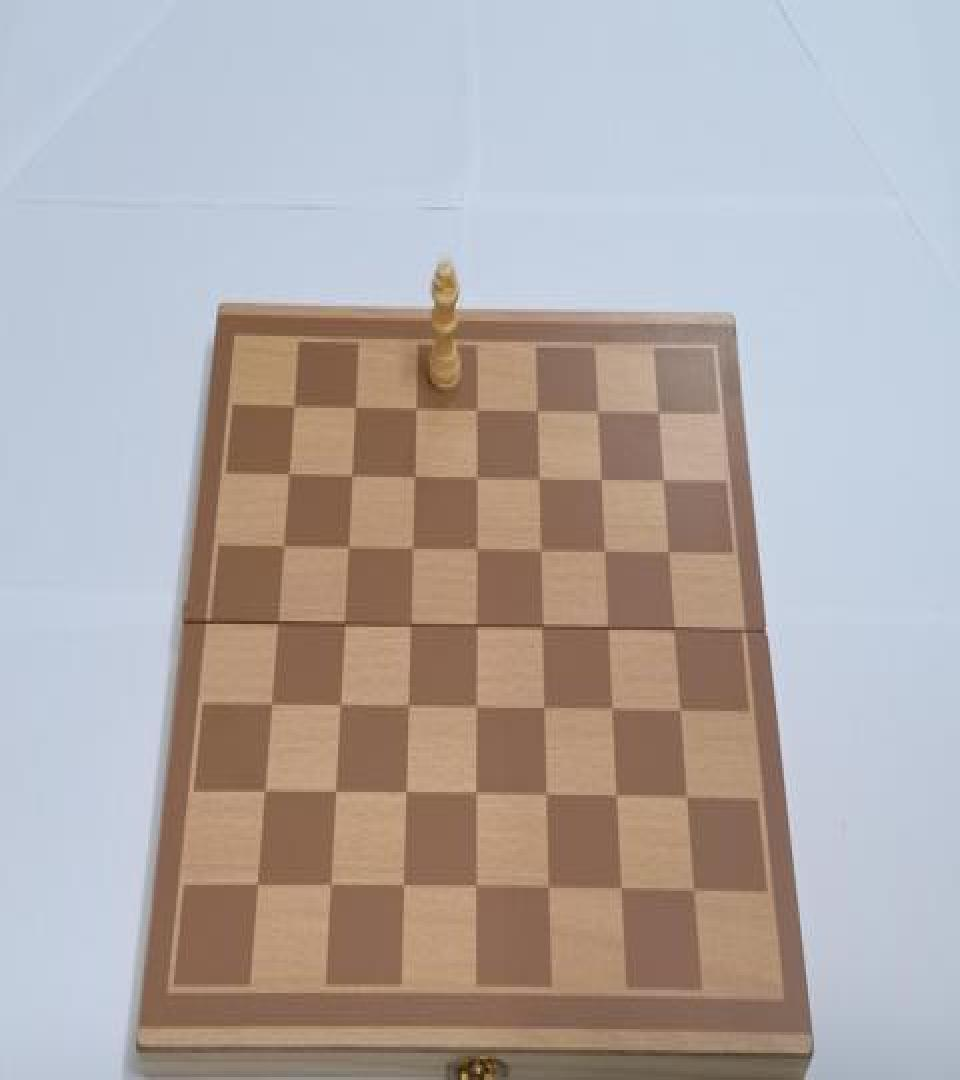xcorner: (280, 460, 298, 488), (406, 394, 424, 422), (467, 694, 485, 722), (590, 466, 608, 494), (285, 393, 303, 420), (275, 532, 293, 559), (269, 609, 287, 636), (256, 778, 274, 805), (346, 393, 364, 420), (342, 462, 360, 489), (339, 534, 357, 561), (335, 610, 353, 637), (326, 780, 344, 807), (322, 873, 340, 900), (404, 462, 422, 489), (401, 612, 419, 639), (399, 693, 417, 720), (394, 874, 412, 901), (466, 396, 484, 423), (466, 537, 484, 564), (467, 783, 485, 810), (467, 876, 485, 903), (526, 397, 544, 424), (528, 465, 546, 492), (530, 537, 548, 564), (532, 615, 550, 642), (535, 696, 553, 723), (537, 785, 555, 812), (586, 397, 604, 424), (594, 538, 612, 565), (598, 617, 616, 644), (608, 786, 626, 813), (613, 879, 631, 906), (647, 399, 665, 426), (652, 468, 670, 495), (658, 540, 676, 567), (664, 618, 682, 645), (671, 699, 689, 726), (686, 880, 704, 907), (263, 692, 281, 718), (249, 872, 267, 898), (331, 692, 349, 718), (402, 536, 420, 562), (397, 782, 415, 808), (466, 464, 484, 490), (466, 614, 484, 640), (540, 878, 558, 904), (603, 698, 621, 724), (678, 788, 696, 814)
